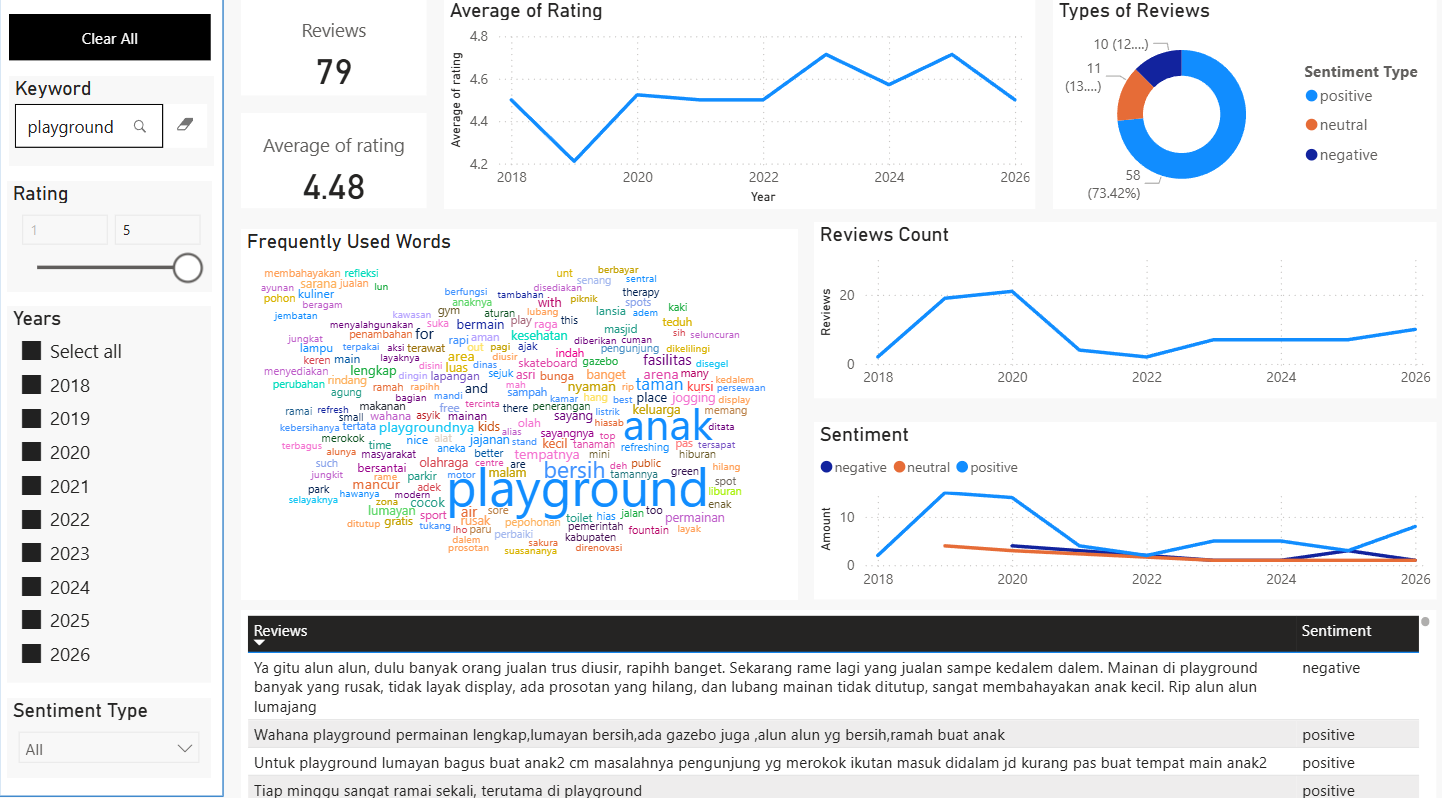

What the dashboard file says about the page in this screenshot:
{"tool":"powerbi","page":{"name":"Page 1","canvas":[1280,720],"ordinal":0},"visuals":[{"type":"cardVisual","fields":{"Data":["Avg(Sheet1.rating)"]},"box":[229.7,114.3,160,81.6],"z":0},{"type":"shape","box":[20.7,15.2,193.7,689],"z":1000},{"type":"lineChart","title":"Average of Rating","fields":{"Y":["Avg(Sheet1.rating)"],"Category":["Sheet1.date_parsed.Variation.Date Hierarchy.Year"]},"box":[404.9,15.2,510.5,181.8],"z":2000},{"type":"donutChart","title":"Types of Reviews","fields":{"Category":["Sheet1.sentiment_type"],"Y":["CountNonNull(Sheet1.sentiment_type)"]},"box":[929.5,15.2,330.9,181.8],"z":3000},{"type":"lineChart","title":"Sentiment","fields":{"Category":["Sheet1.date_parsed.Variation.Date Hierarchy.Year"],"Y":["CountNonNull(Sheet1.sentiment_type)"],"Series":["Sheet1.sentiment_type"]},"box":[723.8,381,536.6,153.5],"z":4000},{"type":"lineChart","title":"Reviews Count","fields":{"Category":["Sheet1.date_parsed.Variation.Date Hierarchy.Year"],"Y":["CountNonNull(Sheet1.review_id)"]},"box":[723.8,209,536.6,152.4],"z":5000},{"type":"tableEx","fields":{"Values":["Sheet1.review_text","Sheet1.sentiment_type"]},"box":[229.7,543.1,1030.7,169.8],"z":6000},{"type":"textFilter25A4896A83E0487089E2B90C9AE57C8A","fields":{"field":["Sheet1.review_text"]},"box":[29.4,82.7,176.3,77.3],"z":7000},{"type":"WordCloud1447959067750","title":"Frequently Used Words","fields":{"Values":["CountNonNull(Sheet1.word_cloud)"],"Category":["Sheet1.word_cloud"]},"box":[229.7,214.4,480,320],"z":8000},{"type":"slicer","title":"Rating","fields":{"Values":["Sheet1.rating"]},"box":[27.2,173.1,176.3,94.7],"z":9000},{"type":"cardVisual","fields":{"Data":["CountNonNull(Sheet1.review_id)"]},"box":[229.7,15.2,160,83.8],"z":10000},{"type":"slicer","title":"Years","fields":{"Values":["Sheet1.year"]},"box":[27.2,280.8,176.3,325.4],"z":11000},{"type":"slicer","title":"Sentiment Type","fields":{"Values":["Sheet1.sentiment_type"]},"box":[27.2,619.3,176.3,68.6],"z":12000},{"type":"actionButton","box":[29.4,29.4,174.1,40.3],"z":13000}]}

Visuals, with their boxes in screenshot pixels (x1, y1, x2, y2), scaled from the page's 1280x720 canvas onto the 1442x798 screenshot:
cardVisual - Avg(Sheet1.rating): (left=259, top=127, right=439, bottom=217)
shape: (left=23, top=17, right=242, bottom=780)
"Average of Rating" lineChart: (left=456, top=17, right=1031, bottom=218)
"Types of Reviews" donutChart: (left=1047, top=17, right=1420, bottom=218)
"Sentiment" lineChart: (left=815, top=422, right=1420, bottom=592)
"Reviews Count" lineChart: (left=815, top=232, right=1420, bottom=401)
tableEx - Sheet1.review_text x Sheet1.sentiment_type: (left=259, top=602, right=1420, bottom=790)
textFilter25A4896A83E0487089E2B90C9AE57C8A - Sheet1.review_text: (left=33, top=92, right=232, bottom=177)
"Frequently Used Words" WordCloud1447959067750: (left=259, top=238, right=800, bottom=592)
"Rating" slicer: (left=31, top=192, right=229, bottom=297)
cardVisual - CountNonNull(Sheet1.review_id): (left=259, top=17, right=439, bottom=110)
"Years" slicer: (left=31, top=311, right=229, bottom=672)
"Sentiment Type" slicer: (left=31, top=686, right=229, bottom=762)
actionButton: (left=33, top=33, right=229, bottom=77)
